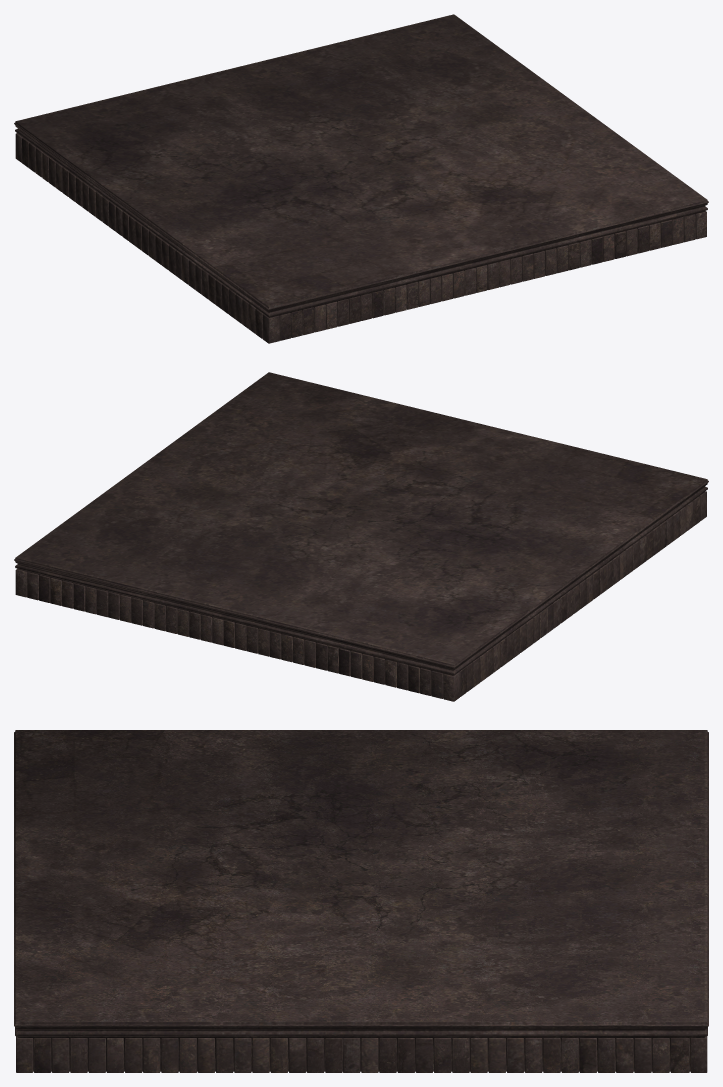
File: SK2 EXT BASE SMALL.fbx
The picture shows the model from 3 angles, top to bottom: view 1: azimuth 30°, elevation 25°; view 2: azimuth 150°, elevation 25°; view 3: azimuth 270°, elevation 25°; orthographic projection. The views are drawn at different scales.
Parts seen in each view (by area): view 1: SK2 EXT BASE SMALL.001; view 2: SK2 EXT BASE SMALL.001; view 3: SK2 EXT BASE SMALL.001.
Boxes of the visible parts, bbox=[...] form: SK2 EXT BASE SMALL.001: bbox=[14, 14, 708, 343]; SK2 EXT BASE SMALL.001: bbox=[14, 372, 708, 701]; SK2 EXT BASE SMALL.001: bbox=[14, 730, 708, 1072].
Bounding box in the file's own units: 1255 × 101 × 1256.
